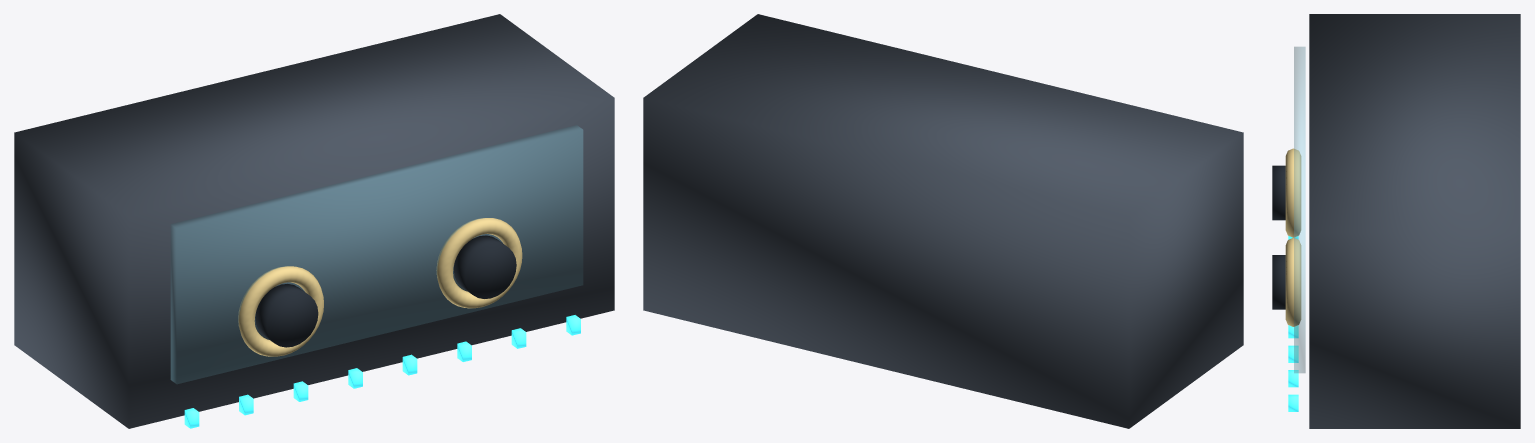
Rendered from 70_L93_InertGloveboxMain.glb.
The picture shows the model from 3 angles, left to right: view 1: azimuth 30°, elevation 25°; view 2: azimuth 150°, elevation 25°; view 3: azimuth 270°, elevation 25°; orthographic projection. The views are drawn at different scales.
Parts seen in each view (by area): view 1: L92_InertGloveboxMain_Part_0000, L92_InertGloveboxMain_Part_0001, L92_InertGloveboxMain_Part_0002, L92_InertGloveboxMain_Part_0003, L92_InertGloveboxMain_Part_0004; view 2: L92_InertGloveboxMain_Part_0000; view 3: L92_InertGloveboxMain_Part_0000, L92_InertGloveboxMain_Part_0001, L92_InertGloveboxMain_Part_0002, L92_InertGloveboxMain_Part_0003, L92_InertGloveboxMain_Part_0004.
Part boxes in pixels (x1,y1,x2,y2): L92_InertGloveboxMain_Part_0000: [14, 14, 614, 428]; L92_InertGloveboxMain_Part_0001: [171, 125, 582, 383]; L92_InertGloveboxMain_Part_0002: [238, 218, 522, 356]; L92_InertGloveboxMain_Part_0003: [255, 235, 516, 347]; L92_InertGloveboxMain_Part_0004: [184, 315, 580, 428]; L92_InertGloveboxMain_Part_0000: [643, 14, 1243, 428]; L92_InertGloveboxMain_Part_0000: [1309, 14, 1520, 428]; L92_InertGloveboxMain_Part_0001: [1294, 47, 1305, 372]; L92_InertGloveboxMain_Part_0002: [1285, 148, 1301, 326]; L92_InertGloveboxMain_Part_0003: [1272, 165, 1285, 309]; L92_InertGloveboxMain_Part_0004: [1288, 236, 1298, 411].
Size of the model in its own units: 4.9 by 2.08 by 2.35.
